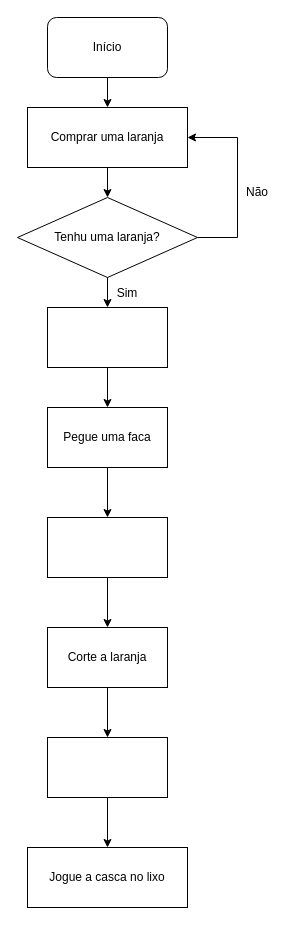
Some shapes in this 305 by 925 pixel diagram are drawn without their labels. Here are the shapes that lost their labels. From the top down, the centre of each, then its label:
At (x=107, y=337): "Pegue a laranja".
At (x=107, y=547): "Descasque a laranja".
At (x=107, y=767): "Chupe a laranja".
